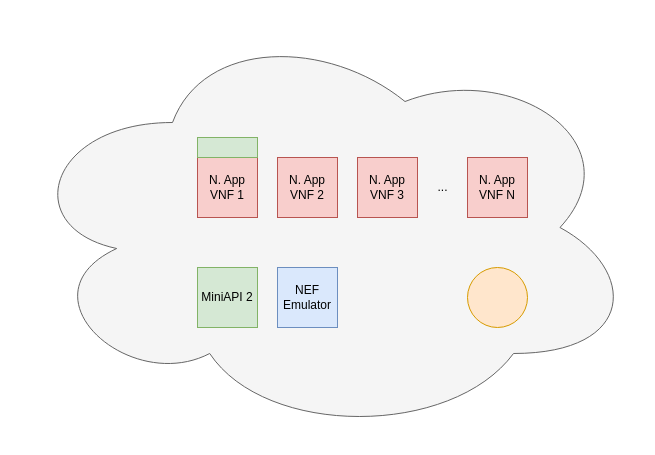
This 655x455 diagram has some shape labels left out. Here are the shapes that lost their labels. From the top down, the centre of each, then its label:
At (227,147): "MiniAPI 1".
At (497,297): "CI/CD Agent".
